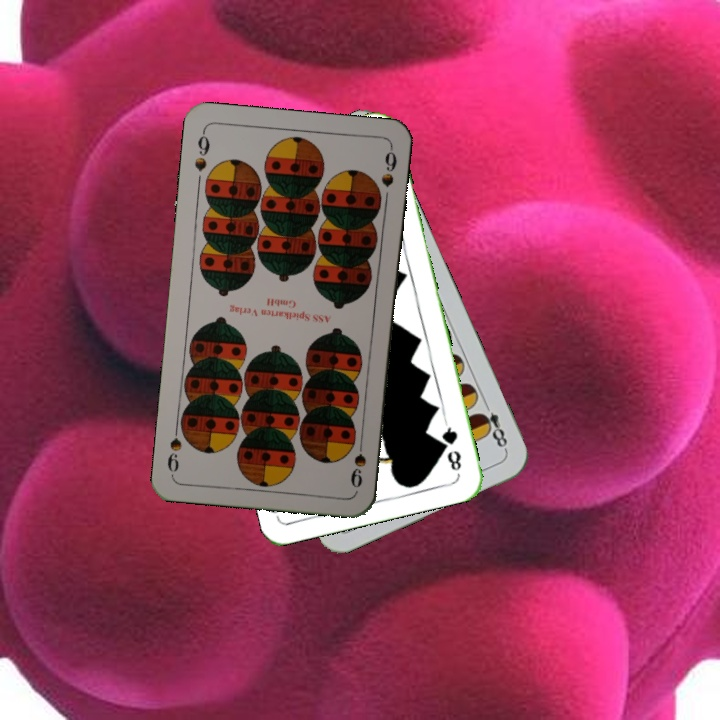E8: (474, 397, 510, 454)
G8: (438, 418, 464, 474)
S9: (347, 433, 369, 491), (190, 127, 213, 174)
